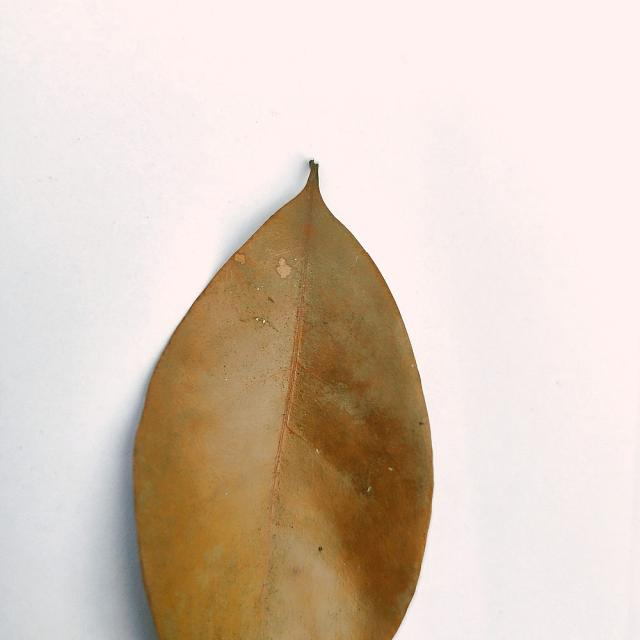Dry_Leaf-Lychee: (132, 163, 435, 639)
